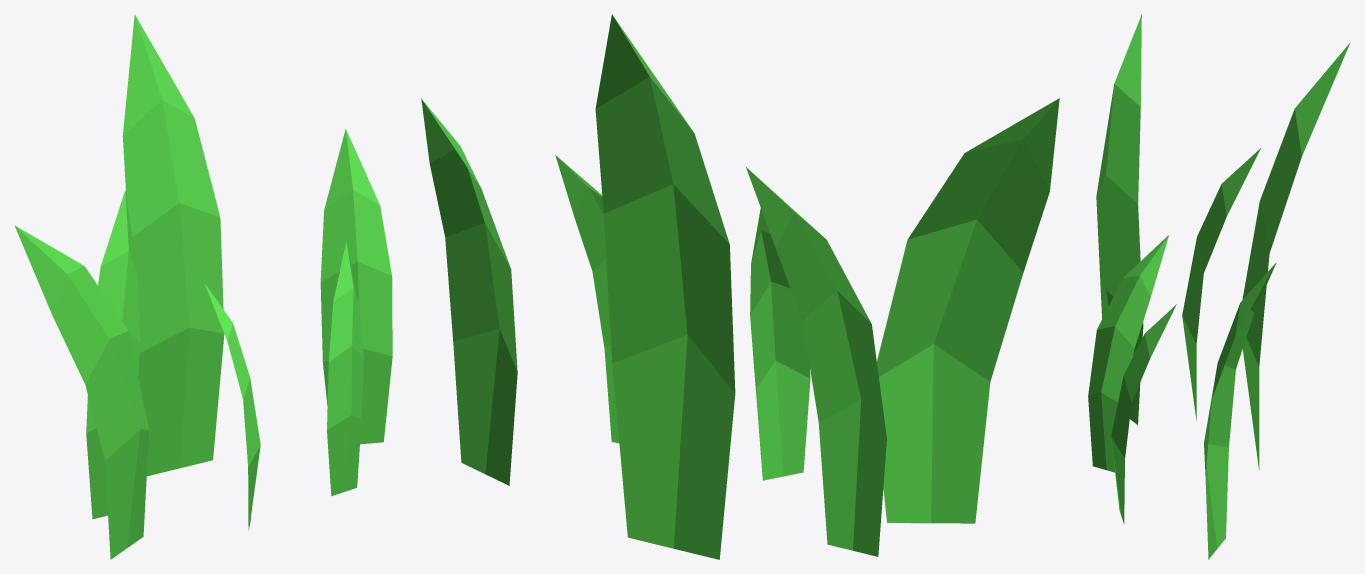
Rendered from grass02.fbx.
The picture shows the model from 3 angles, left to right: view 1: azimuth 30°, elevation 25°; view 2: azimuth 150°, elevation 25°; view 3: azimuth 270°, elevation 25°; orthographic projection. The views are drawn at different scales.
Parts seen in each view (by area): view 1: grass02; view 2: grass02; view 3: grass02.
Boxes of the visible parts, box(x1,y1,x2,y2) form: grass02: box(14, 14, 392, 559); grass02: box(421, 14, 1059, 559); grass02: box(1088, 14, 1350, 559).
Bounding box in the file's own units: 51.22 × 50.23 × 27.73.
